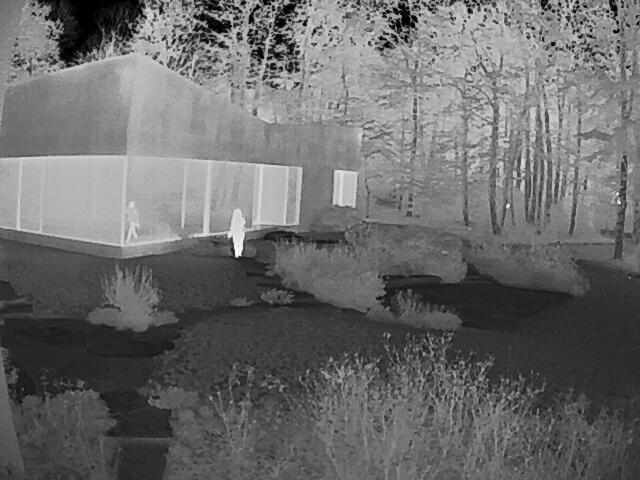person: (228, 208, 246, 256), (123, 201, 141, 243)
